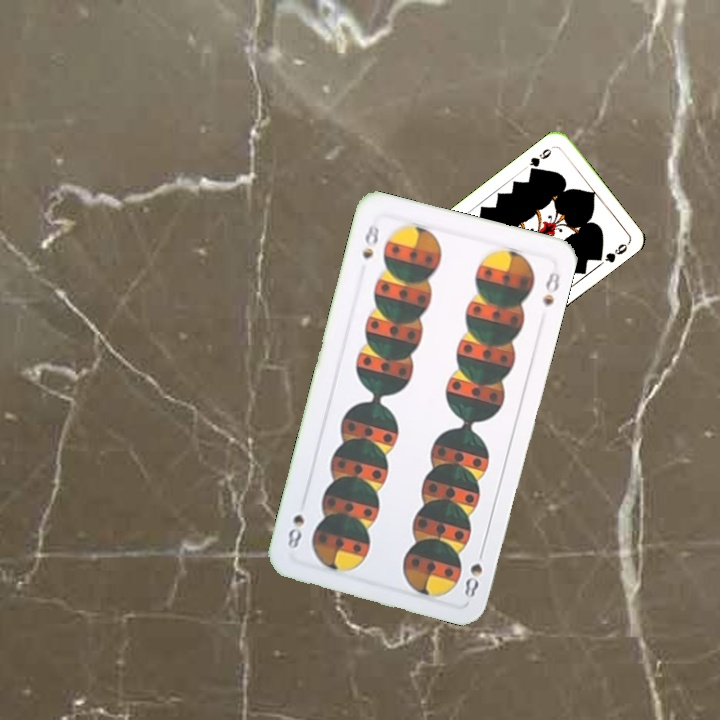G9: (525, 144, 554, 176)
S8: (358, 215, 382, 262), (460, 559, 485, 600)
